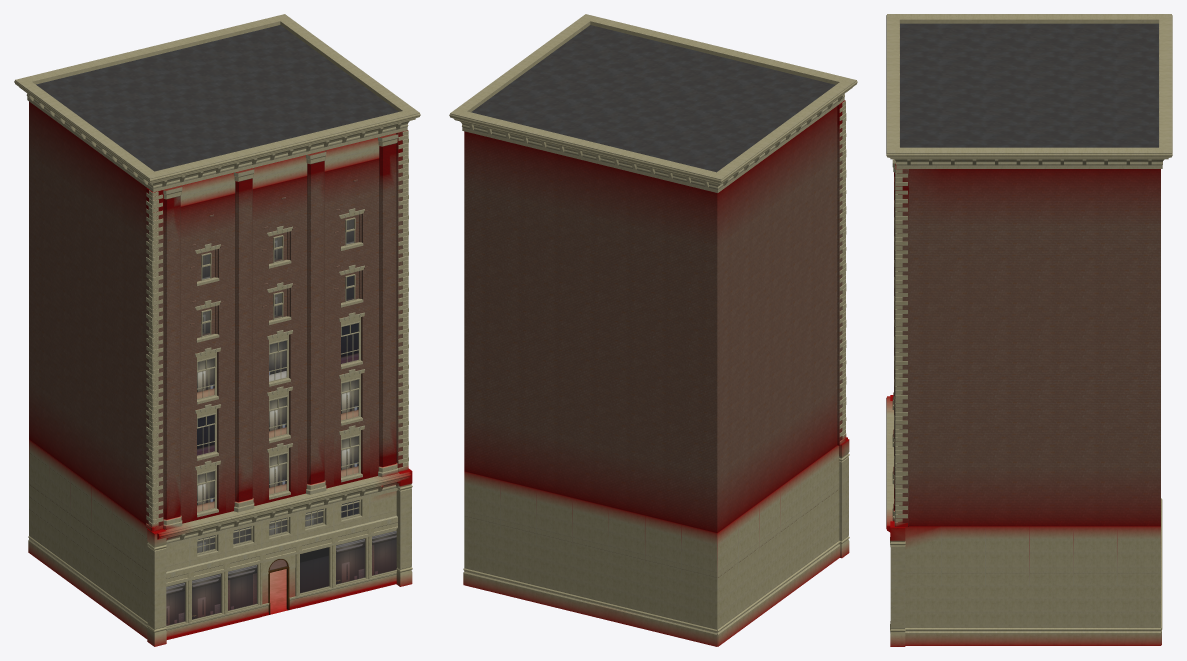
The model's file is b_medium.glb.
3 views of the same model, side by side, from view 1: azimuth 30°, elevation 25°; view 2: azimuth 150°, elevation 25°; view 3: azimuth 270°, elevation 25° (orthographic). The views are drawn at different scales.
Parts seen in each view (by area): view 1: Building_Medium_2.001; view 2: Building_Medium_2.001; view 3: Building_Medium_2.001.
Boxes of the visible parts, x1,y1,x2,y2 form: Building_Medium_2.001: (14,14,420,646); Building_Medium_2.001: (449,14,857,646); Building_Medium_2.001: (886,14,1172,646).
Bounding box in the file's own units: 15.06 × 25.01 × 13.06.
Materials: 8 (7 with a texture image).
